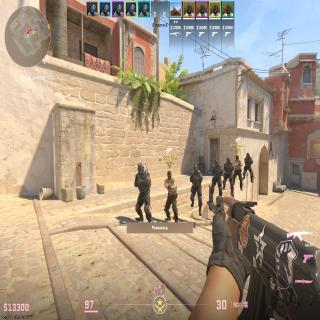CT-Body: (134, 163, 152, 222), (190, 164, 203, 214), (223, 157, 235, 196), (211, 159, 223, 193), (243, 152, 254, 182)
CT-Head: (138, 163, 144, 175), (193, 165, 198, 173), (214, 159, 219, 167), (226, 156, 231, 164), (246, 152, 250, 158)
T-Body: (164, 170, 179, 222), (234, 155, 243, 190)
T-Head: (167, 171, 172, 180), (236, 155, 239, 161)
